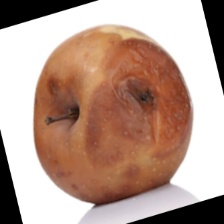apple: (23, 18, 223, 201)
